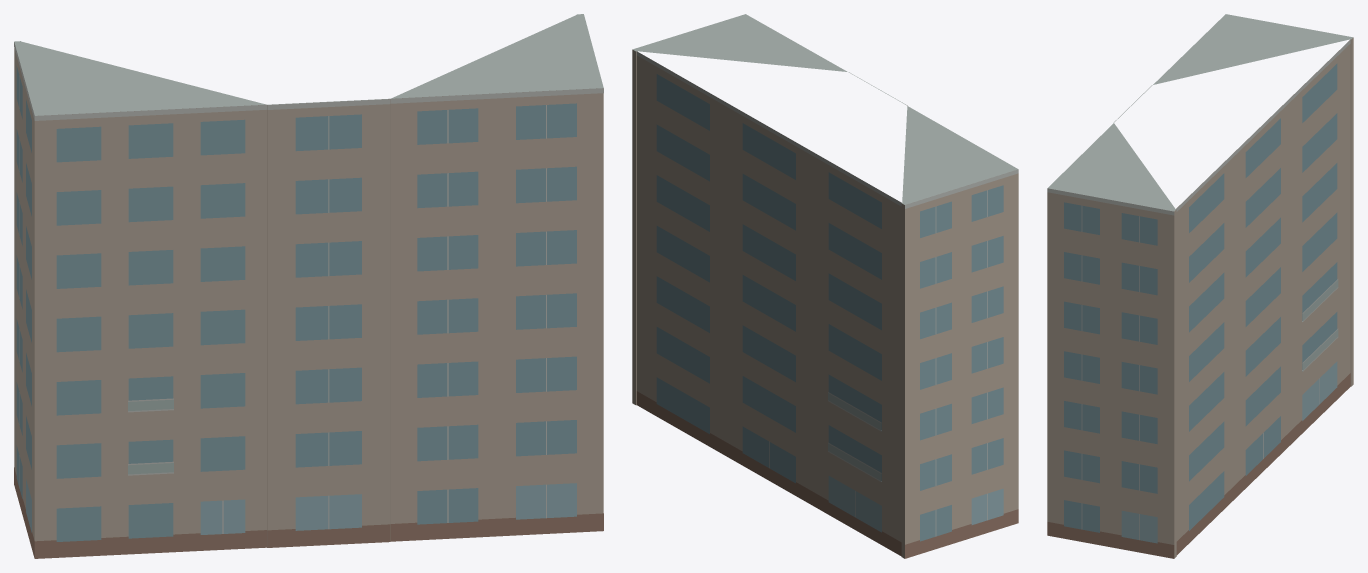
File: survey-upis-32934921.glb
3 views of the same model, side by side, from view 1: azimuth 30°, elevation 25°; view 2: azimuth 150°, elevation 25°; view 3: azimuth 270°, elevation 25° (orthographic). The views are drawn at different scales.
Parts seen in each view (by area): view 1: survey-upis-32934921.tmp; view 2: survey-upis-32934921.tmp; view 3: survey-upis-32934921.tmp.
Part boxes in pixels (box(x1,y1,x2,y2)): survey-upis-32934921.tmp: box(14, 14, 603, 558); survey-upis-32934921.tmp: box(632, 14, 1018, 558); survey-upis-32934921.tmp: box(1047, 14, 1353, 558).
Bounding box in the file's own units: 25.87 × 21.2 × 16.94.
